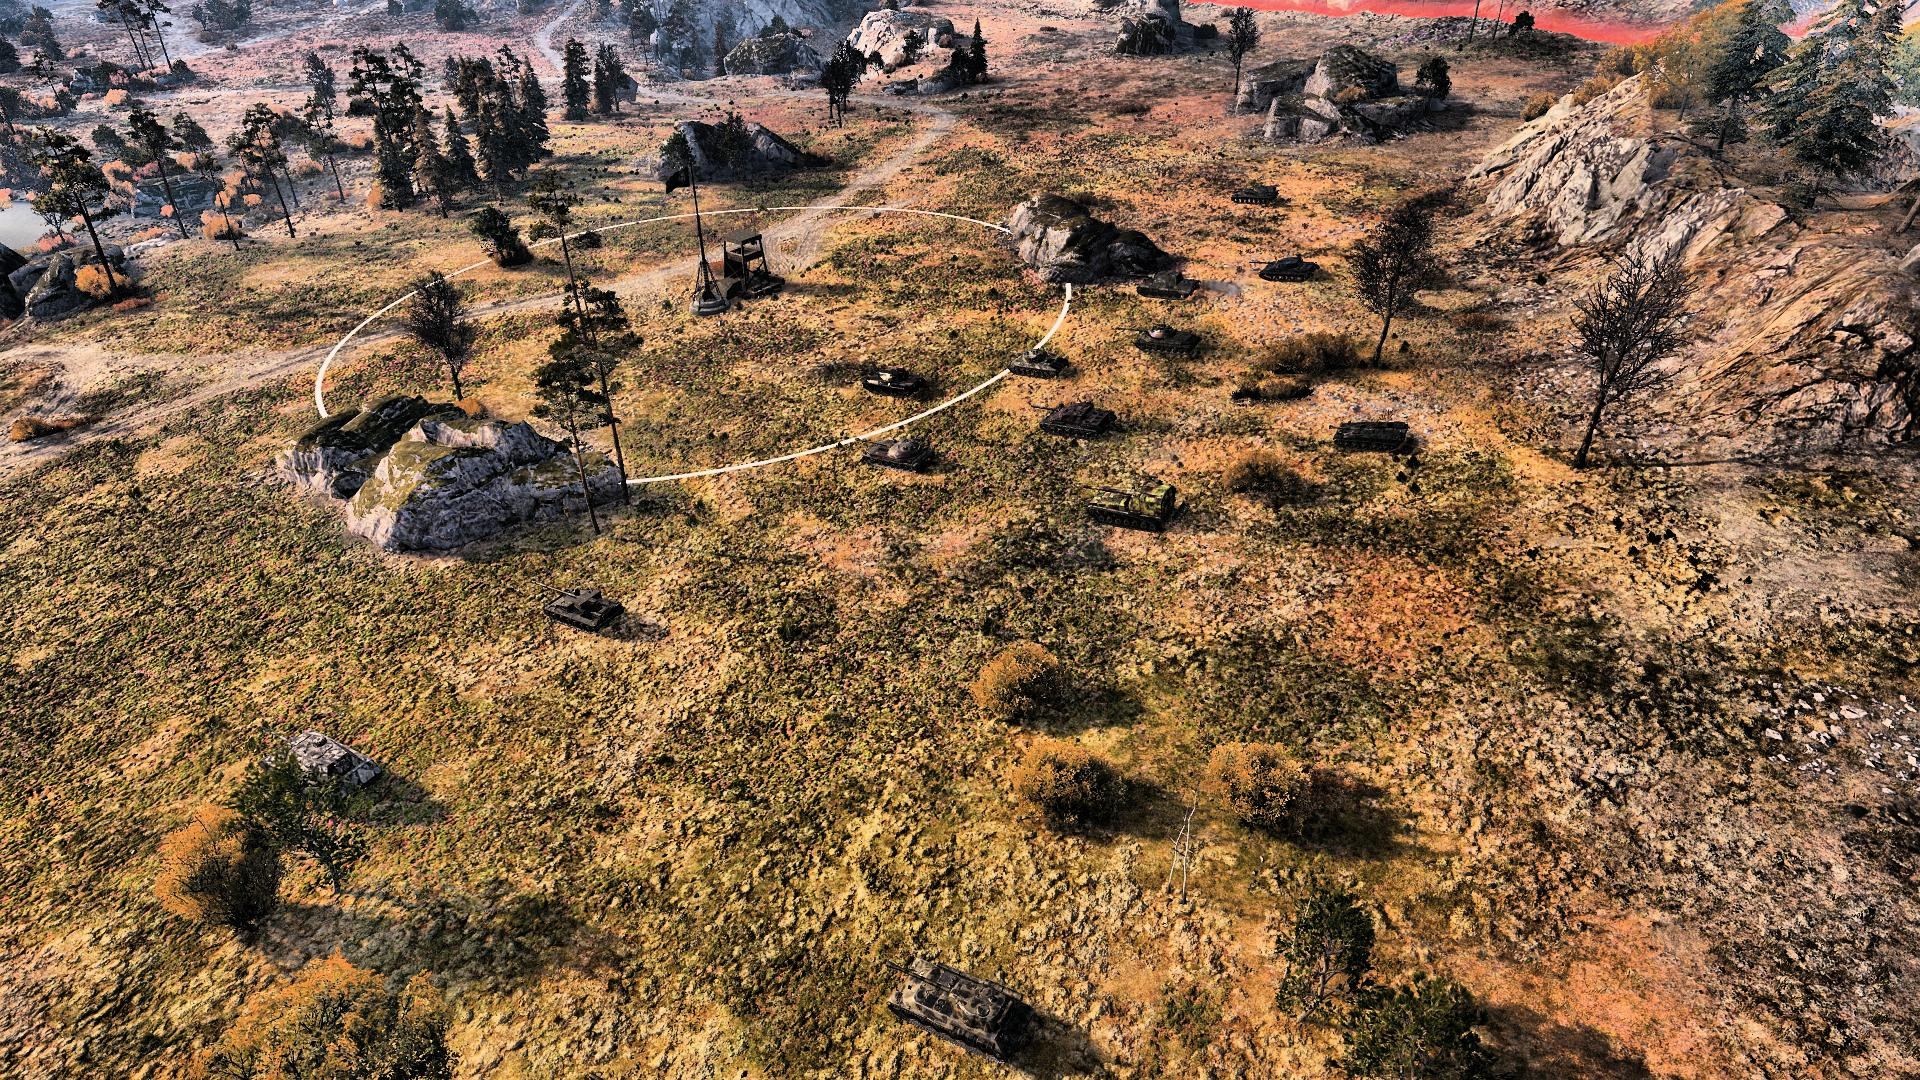military-vehicle: (880, 955, 1038, 1055), (258, 735, 380, 796), (1072, 475, 1174, 526), (545, 583, 626, 636), (1034, 397, 1120, 438), (1332, 417, 1416, 454), (1122, 320, 1199, 359), (860, 438, 940, 469), (858, 361, 924, 400), (1002, 347, 1076, 380), (1126, 265, 1196, 295), (1249, 255, 1319, 282), (1230, 179, 1278, 210)
